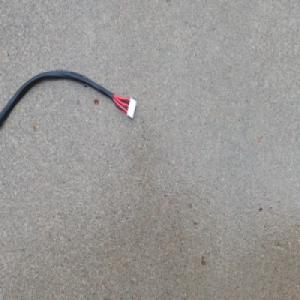Wire: (0, 68, 138, 137)
